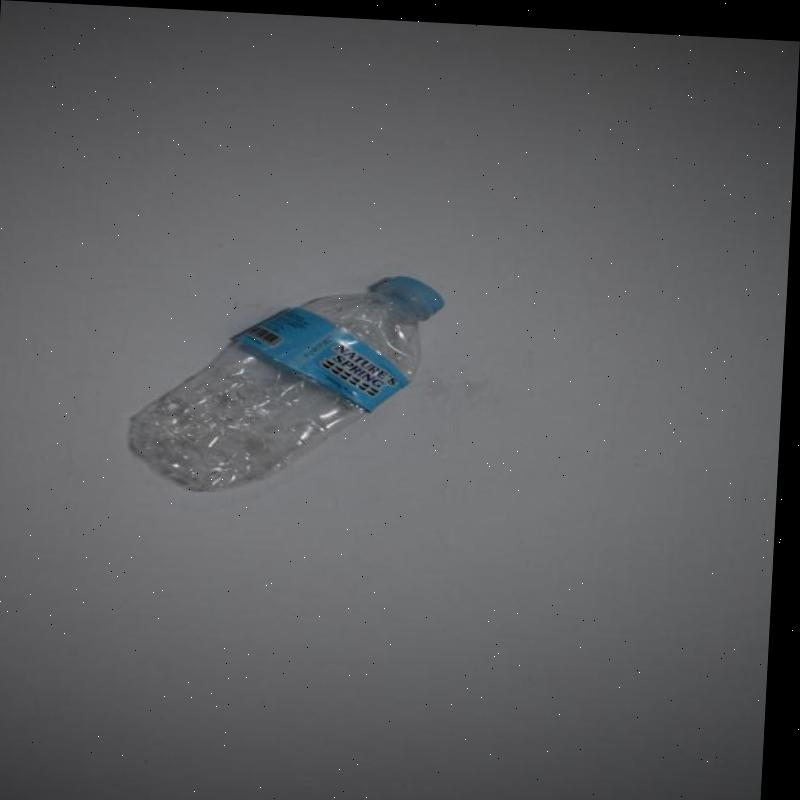botella: (123, 257, 451, 500)
